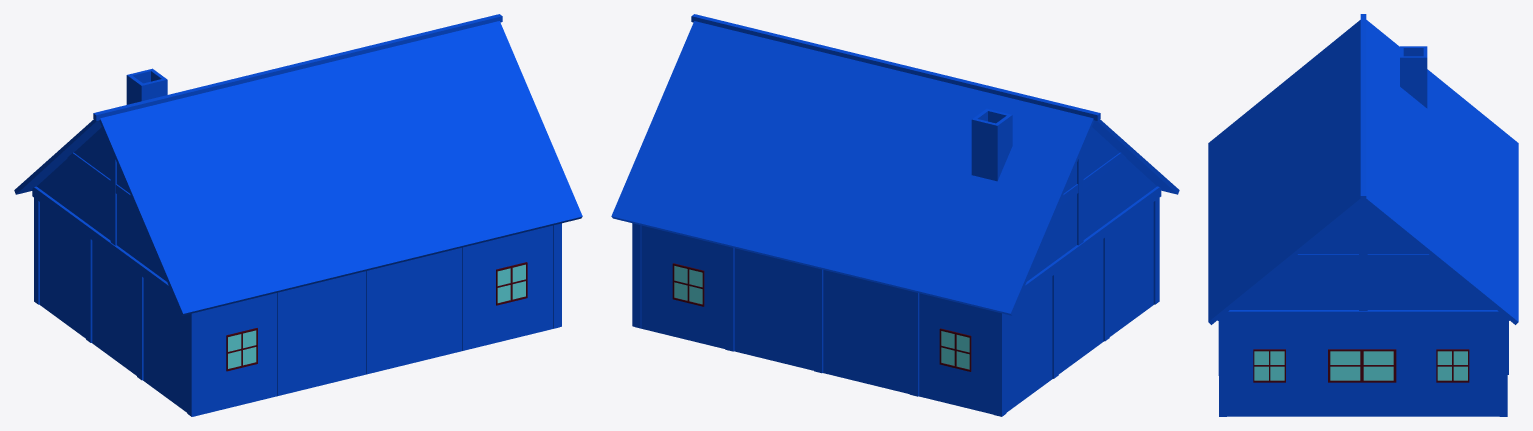
Rendered from Casa.fbx.
3 renders of one model, left to right at view 1: azimuth 30°, elevation 25°; view 2: azimuth 150°, elevation 25°; view 3: azimuth 270°, elevation 25°, orthographic. The views are drawn at different scales.
Parts seen in each view (by area): view 1: House, Window; view 2: House, Window; view 3: House, Window.
Boxes of the visible parts, bbox=[...] form: House: bbox=[14, 14, 582, 416]; Window: bbox=[226, 262, 527, 371]; House: bbox=[611, 14, 1179, 416]; Window: bbox=[672, 263, 971, 371]; House: bbox=[1208, 14, 1518, 416]; Window: bbox=[1253, 349, 1469, 382].
Bounding box in the file's own units: 1218 × 717 × 878.
